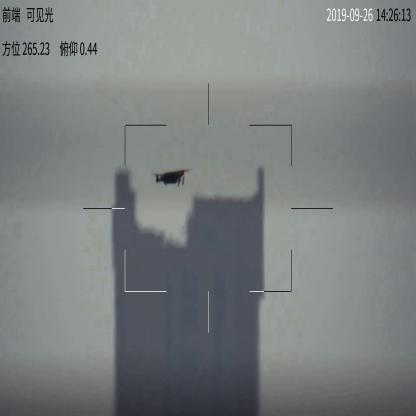uav: (150, 167, 189, 190)
